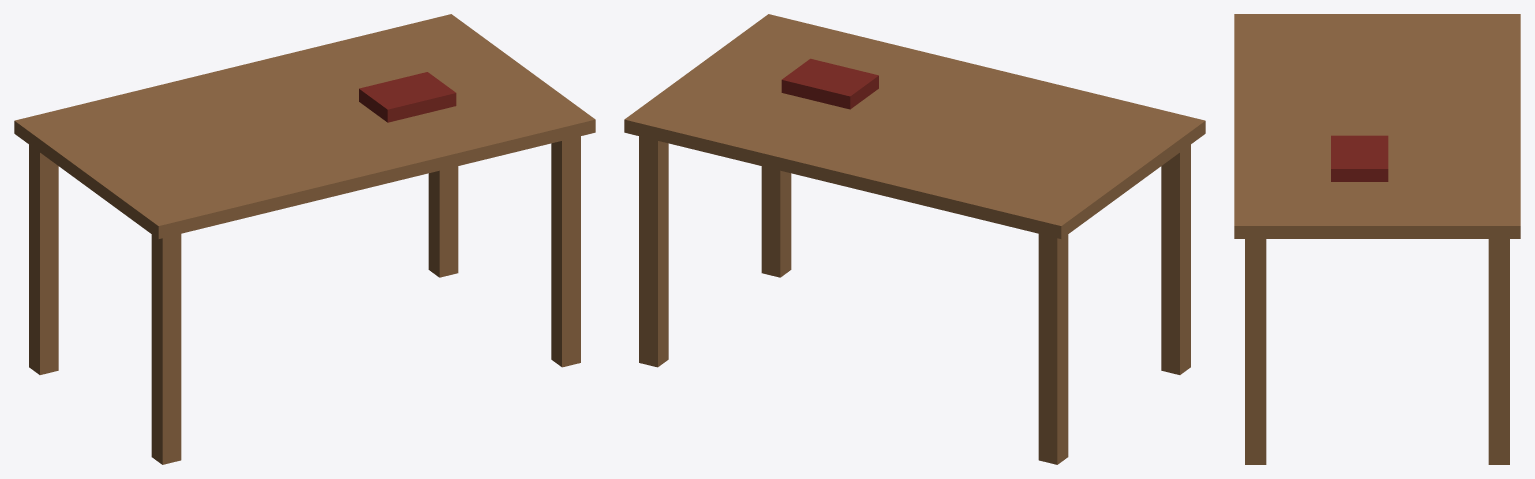
Rendered from table_oak.glb.
3 views of the same model, side by side, from view 1: azimuth 30°, elevation 25°; view 2: azimuth 150°, elevation 25°; view 3: azimuth 270°, elevation 25° (orthographic).
Parts seen in each view (by area): view 1: Part0, Part1, Part2, Part3, Part5, Part4; view 2: Part0, Part3, Part4, Part1, Part5, Part2; view 3: Part0, Part2, Part4, Part5.
Boxes of the visible parts, x1=… form: Part0: x1=14, y1=14, x2=595, y2=239; Part1: x1=151, y1=234, x2=181, y2=464; Part2: x1=551, y1=136, x2=580, y2=367; Part3: x1=29, y1=144, x2=58, y2=374; Part5: x1=359, y1=72, x2=456, y2=122; Part4: x1=428, y1=166, x2=458, y2=277; Part0: x1=624, y1=14, x2=1205, y2=239; Part3: x1=1038, y1=234, x2=1068, y2=464; Part4: x1=639, y1=136, x2=668, y2=367; Part1: x1=1161, y1=144, x2=1190, y2=374; Part5: x1=781, y1=58, x2=878, y2=109; Part2: x1=761, y1=166, x2=791, y2=277; Part0: x1=1234, y1=14, x2=1520, y2=238; Part2: x1=1245, y1=239, x2=1266, y2=464; Part4: x1=1488, y1=239, x2=1509, y2=464; Part5: x1=1331, y1=135, x2=1388, y2=181.
Size of the model in its own units: 1.4 by 0.79 by 0.8.
